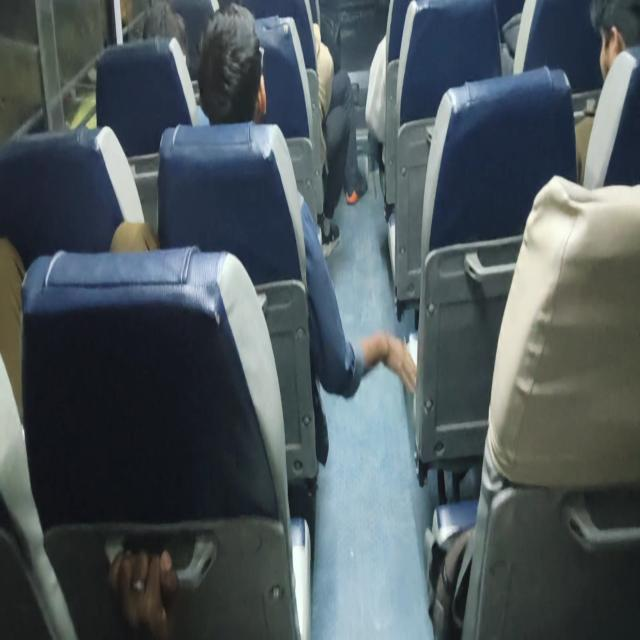person: (196, 13, 276, 134), (576, 0, 640, 87), (137, 0, 188, 64)
